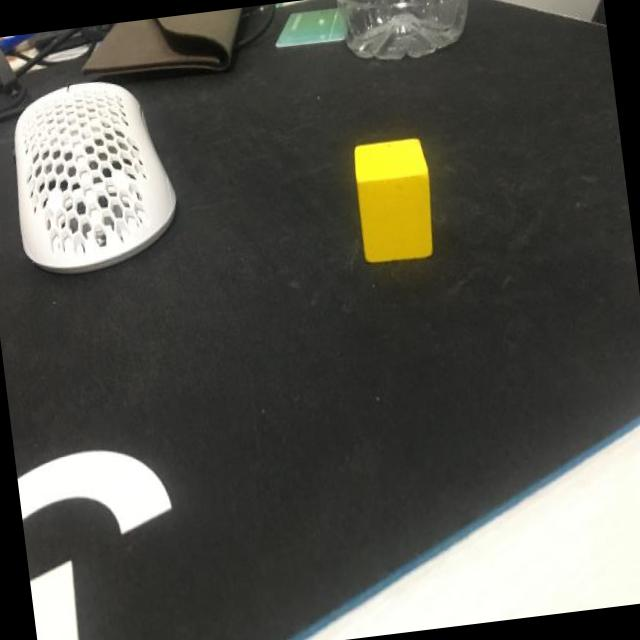yellow: (352, 136, 438, 264)
